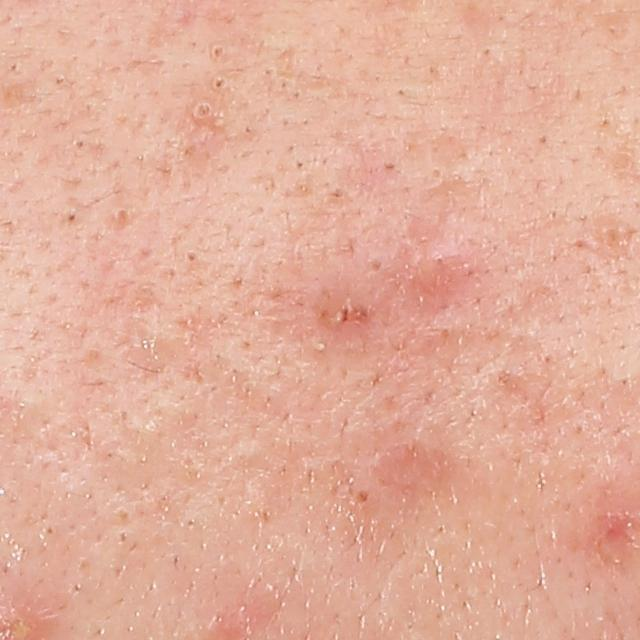comedo: (351, 486, 374, 510), (189, 101, 215, 120), (210, 43, 228, 61), (72, 135, 89, 150), (212, 74, 228, 89), (66, 208, 79, 224), (186, 248, 200, 262)
papule: (416, 239, 472, 299)
